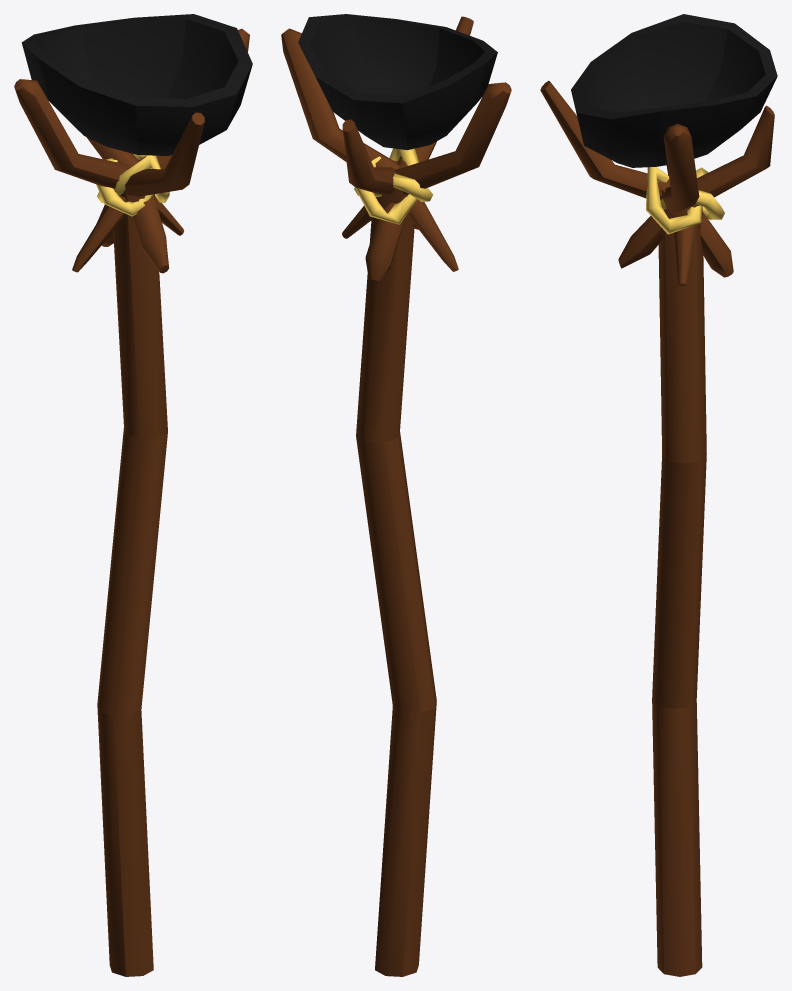
The model's file is Torch.fbx.
The picture shows the model from 3 angles, left to right: view 1: azimuth 30°, elevation 25°; view 2: azimuth 150°, elevation 25°; view 3: azimuth 270°, elevation 25°; orthographic projection. The views are drawn at different scales.
Visible parts, largest first — view 1: Torch; view 2: Torch; view 3: Torch.
Boxes of the visible parts, box(x1,y1,x2,y2) form: Torch: box(14, 14, 252, 976); Torch: box(281, 14, 511, 976); Torch: box(540, 14, 777, 976).
Bounding box in the file's own units: 20.89 × 80.19 × 18.96.
